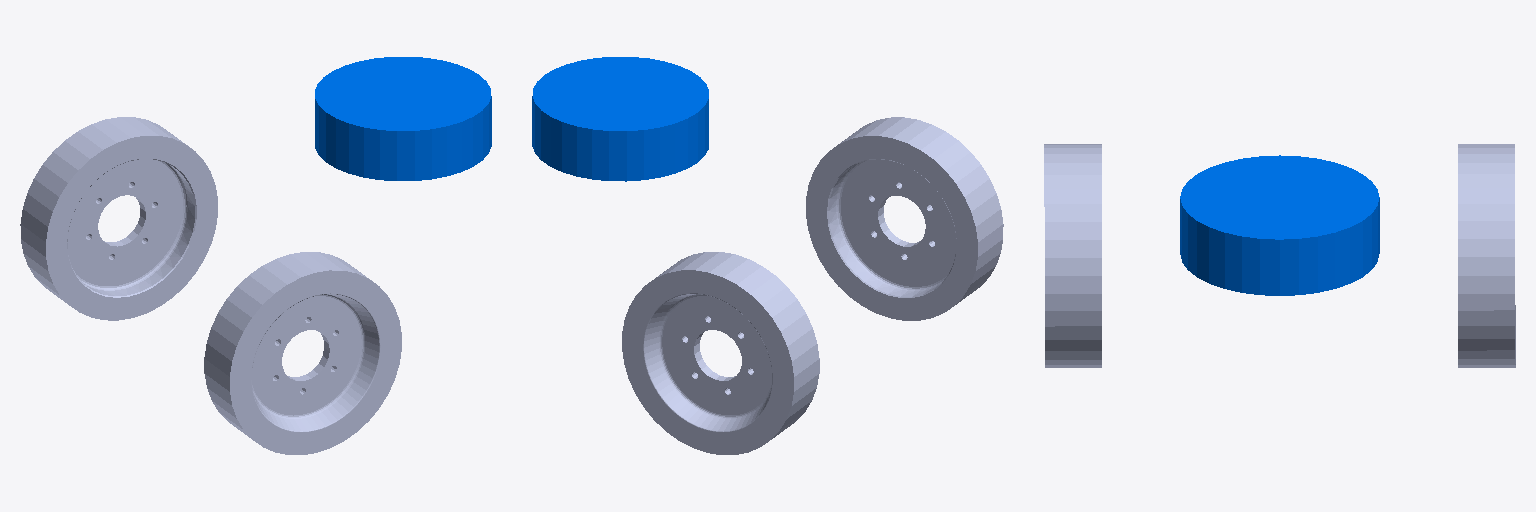
URDF robot description (diff_drive_robot):
<?xml version="1.0" encoding="utf-8"?>
<robot name="diff_drive_robot">
  <link name="base_footprint" />

  <link name="base_link">
    <inertial>
      <origin xyz="-0.00645691832708175 0.00012687627285592 0.0184393057752323" rpy="0 0 0" />
      <mass value="3.944486750636" />
      <inertia
        ixx="0.0483033035830139"
        ixy="-1.91394645543225E-07"
        ixz="9.73072511268194E-05"
        iyy="0.077628979468859"
        iyz="2.45193366265305E-07"
        izz="0.120885604933525" />
    </inertial>
    <visual>
      <origin xyz="0 0 0" rpy="0 0 0" />
      <geometry>
        <mesh filename="package://diff_drive_robot/meshes/base_link.STL" />
      </geometry>
      <material name="">
        <color rgba="0.792156862745098 0.819607843137255 0.933333333333333 1" />
      </material>
    </visual>
    <collision>
      <origin xyz="0 0 0" rpy="0 0 0" />
      <geometry>
        <mesh filename="package://diff_drive_robot/meshes/base_link.STL" />
      </geometry>
    </collision>
  </link>

  <joint name="base_joint" type="fixed">
    <origin xyz="0 0 0.1" rpy="-1.57 0 0"/>
    <parent link="base_footprint"/>
    <child link="base_link"/>
  </joint>

  <link name="left_wheel">
    <inertial>
      <origin xyz="2.85924710320992E-16 2.42861286636753E-17 0.33239616244097" rpy="0 0 0" />
      <mass value="0.669795771787872" />
      <inertia
        ixx="0.001953475767812"
        ixy="-1.05110098931055E-20"
        ixz="7.02831194139743E-20"
        iyy="0.001953475767812"
        iyz="9.86008147363709E-20"
        izz="0.00371292723221973" />
    </inertial>
    <visual>
      <origin xyz="0 0 0" rpy="0 0 0" />
      <geometry>
        <mesh filename="package://diff_drive_robot/meshes/left_wheel.STL" />
      </geometry>
      <material name="">
        <color rgba="0.792156862745098 0.819607843137255 0.933333333333333 1" />
      </material>
    </visual>
    <collision>
      <origin xyz="0 0 0" rpy="0 0 0" />
      <geometry>
        <mesh filename="package://diff_drive_robot/meshes/left_wheel.STL" />
      </geometry>
    </collision>
  </link>
  
  <joint name="left_wheel_joint" type="revolute">
    <origin xyz="0 0.02 0.166" rpy="3.1416 0 0" />
    <parent link="base_link" />
    <child link="left_wheel" />
    <axis xyz="0 0 1" />
    <limit lower="-3.14" upper="3.14" effort="1.0" velocity="3.14" />
  </joint>
  
  <link name="right_wheel">
    <inertial>
      <origin xyz="-2.94638503968529E-16 2.77555756156289E-17 0.33239616244097" rpy="0 0 0" />
      <mass value="0.669795771787873" />
      <inertia
        ixx="0.001953475767812"
        ixy="-5.77733959080005E-20"
        ixz="-4.06766603001359E-20"
        iyy="0.001953475767812"
        iyz="-8.62641631893792E-19"
        izz="0.00371292723221973" />
    </inertial>
    <visual>
      <origin xyz="0 0 0" rpy="0 0 0" />
      <geometry>
        <mesh filename="package://diff_drive_robot/meshes/right_wheel.STL" />
      </geometry>
      <material name="">
        <color rgba="0.792156862745098 0.819607843137255 0.933333333333333 1" />
      </material>
    </visual>
    <collision>
      <origin xyz="0 0 0" rpy="0 0 0" />
      <geometry>
        <mesh filename="package://diff_drive_robot/meshes/right_wheel.STL" />
      </geometry>
    </collision>
  </link>
  
  <joint name="right_wheel_joint" type="revolute">
    <origin xyz="0 0.02 -0.166" rpy="0 0 0" />
    <parent link="base_link" />
    <child link="right_wheel" />
    <axis xyz="0 0 1" />
    <limit lower="-3.14" upper="3.14" effort="1.0" velocity="3.14" />
  </joint>

  <link name="lidar_link">
    <visual>
      <geometry>
        <cylinder length="0.05" radius="0.08"/>
      </geometry>
      <material name="blue">
        <color rgba="0 0.5 1 0.8"/>
      </material>
    </visual>
    <collision>
      <geometry>
        <cylinder length="0.005" radius="0.004"/>
      </geometry>
    </collision>
    <inertial>
      <mass value="0.1"/>
      <inertia 
        ixx="0.001" ixy="0" ixz="0"
        iyy="0.001" iyz="0"
        izz="0.001"/>
         </inertial>
  </link>

  <joint name="lidar_joint" type="fixed">
    <parent link="base_link"/>
    <child link="lidar_link"/>
    <origin xyz="0.2 -0.1 0" rpy="1.57 0 0"/>
  </joint>
  
  <!-- 1. CAN接口 - 用于CAN总线电机控制器 -->
  <ros2_control name="DiffDriveSystemCAN" type="system">
    <hardware>
      <plugin>diff_drive_robot/CanHardwareInterface</plugin>
      <param name="can_interface">can0</param>
      <param name="can_bitrate">1000000</param>
      <param name="left_wheel_id">21</param>
      <param name="right_wheel_id">22</param>
    </hardware>
    <joint name="left_wheel_joint">
      <command_interface name="velocity"/>
      <state_interface name="position"/>
      <state_interface name="velocity"/>
    </joint>
    <joint name="right_wheel_joint">
      <command_interface name="velocity"/>
      <state_interface name="position"/>
      <state_interface name="velocity"/>
    </joint>
  </ros2_control>
  

  
  <!-- Gazebo相关配置 -->
  <gazebo>
    <plugin name="diff_drive" filename="libgazebo_ros_diff_drive.so">
      <left_joint>left_wheel_joint</left_joint>
      <right_joint>right_wheel_joint</right_joint>
      <wheel_separation>0.332</wheel_separation>
      <wheel_diameter>0.1</wheel_diameter>
      <max_wheel_acceleration>10.0</max_wheel_acceleration>
      <max_wheel_torque>20</max_wheel_torque>
      <publish_odom>true</publish_odom>
      <publish_odom_tf>true</publish_odom_tf>
      <publish_wheel_tf>true</publish_wheel_tf>
      <odometry_frame>odom</odometry_frame>
      <robot_base_frame>base_link</robot_base_frame>
    </plugin>
  </gazebo>
  
  <!-- LiDAR的Gazebo配置 -->
  <gazebo reference="lidar_link">
    <sensor type="ray" name="lidar">
      <pose>0 0 0 0 0 0</pose>
      <visualize>true</visualize>
      <update_rate>10</update_rate>
      <ray>
        <scan>
          <horizontal>
            <samples>360</samples>
            <resolution>1</resolution>
            <min_angle>-3.14159</min_angle>
            <max_angle>3.14159</max_angle>
          </horizontal>
        </scan>
        <range>
          <min>0.1</min>
          <max>10.0</max>
          <resolution>0.01</resolution>
        </range>
        <noise>
          <type>gaussian</type>
          <mean>0.0</mean>
          <stddev>0.01</stddev>
        </noise>
      </ray>
      <plugin name="gazebo_ros_lidar_controller" filename="libgazebo_ros_ray_sensor.so">
        <ros>
          <namespace>/</namespace>
          <remapping>~/out:=scan</remapping>
        </ros>
        <output_type>sensor_msgs/LaserScan</output_type>
        <frame_name>lidar_link</frame_name>
      </plugin>
    </sensor>
  </gazebo>
</robot>

--- Render facts (derived) ---
3 views of the same robot in one strip: view 1: azimuth 30°, elevation 25°; view 2: azimuth 150°, elevation 25°; view 3: azimuth 270°, elevation 25° (orthographic).
Model diff_drive_robot with 5 links and 4 joints (2 revolute, 2 fixed), rooted at base_footprint, posed all joints at 0.
Visible links, largest first — view 1: right_wheel, left_wheel, lidar_link; view 2: left_wheel, right_wheel, lidar_link; view 3: lidar_link, left_wheel, right_wheel.
Link boxes in pixels (box(x1,y1,x2,y2)): right_wheel: box(20, 117, 217, 320); left_wheel: box(204, 252, 401, 454); lidar_link: box(315, 57, 491, 180); left_wheel: box(806, 117, 1003, 320); right_wheel: box(622, 252, 819, 454); lidar_link: box(532, 57, 708, 181); lidar_link: box(1180, 155, 1379, 295); left_wheel: box(1044, 144, 1101, 367); right_wheel: box(1458, 144, 1515, 367).
Size in the robot's own frame: 0.3698 by 0.3781 by 0.2352 metres.
Meshes: 3 distinct files referenced, 2 mesh visuals loaded (2 binary STL); not drawn: 1 (reference not matched to a file when rendering).
